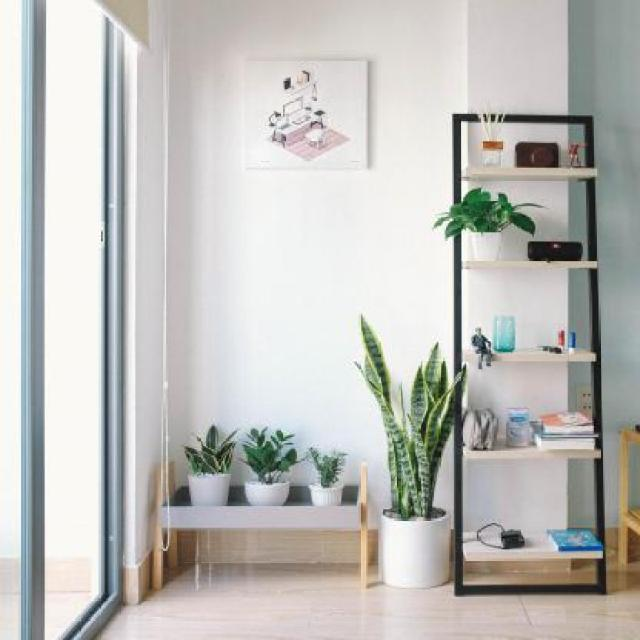Floor: (95, 561, 640, 640), (463, 561, 597, 585), (46, 592, 91, 640)
